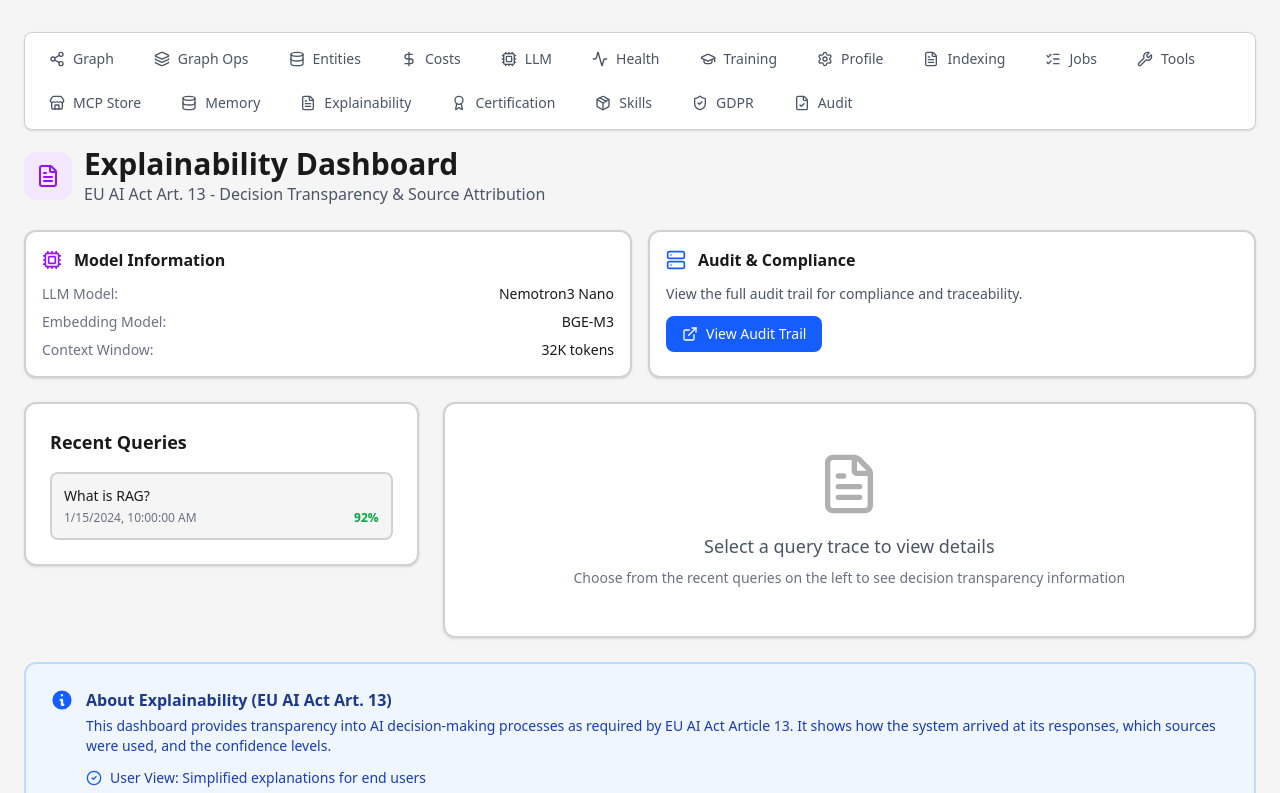
Test case: ExplainabilityPage › should switch between explanation levels
Expected: the text "What is RAG?" is shown, [64,486,150,505]
Click the button with test id "trace-item-trace-123" at (107, 496), box [50,472,393,540]
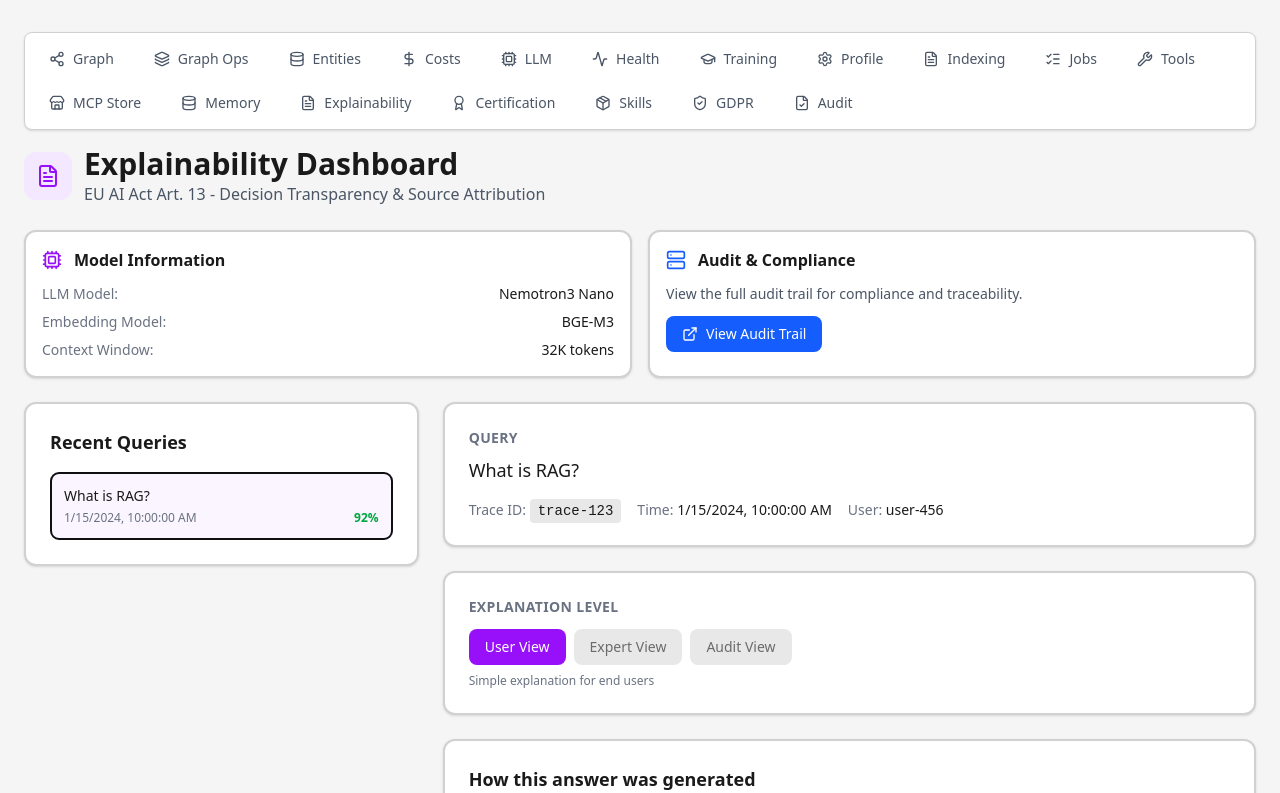
Expected: the button with test id "level-user" is shown, [469,629,566,665]
# Switch to Expert level
Click the button with test id "level-expert" at (628, 647), box [574,629,682,665]
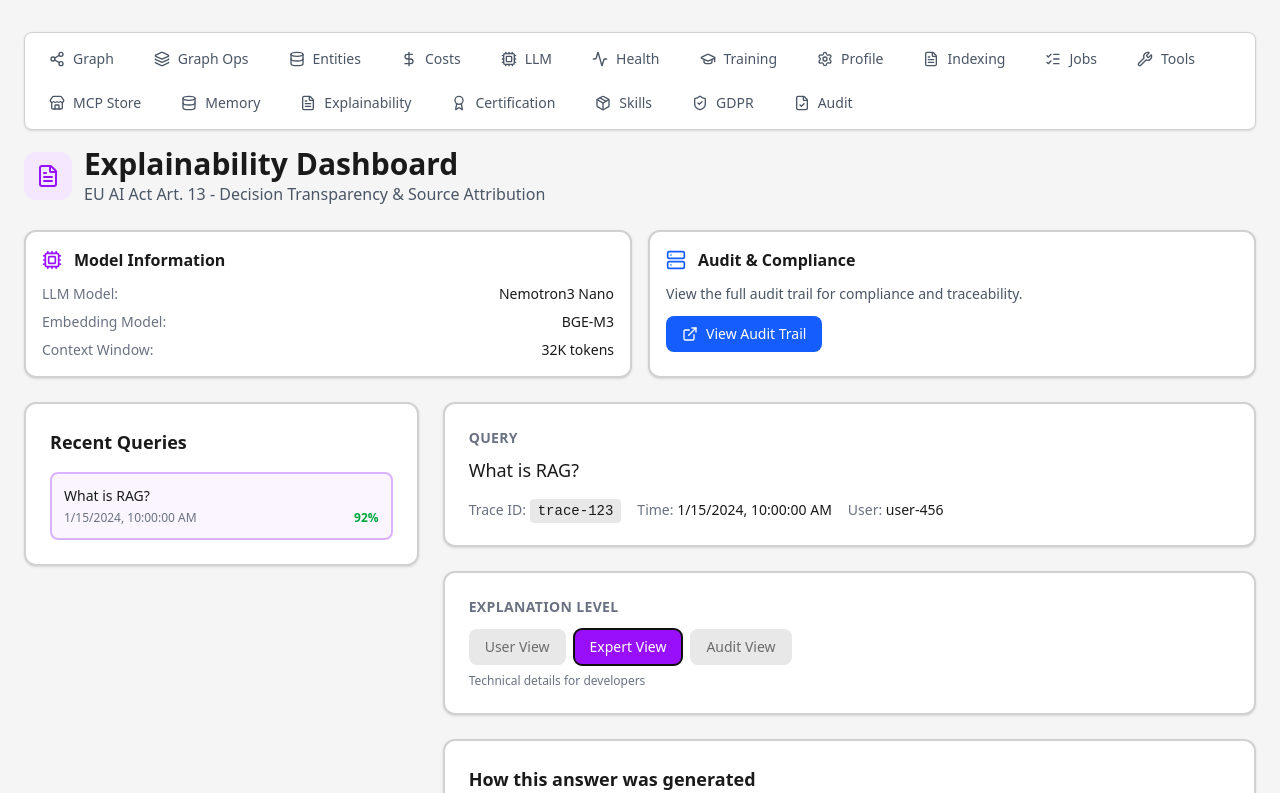
Expected: the text "Technical details for developers" is shown, [469,672,645,689]
